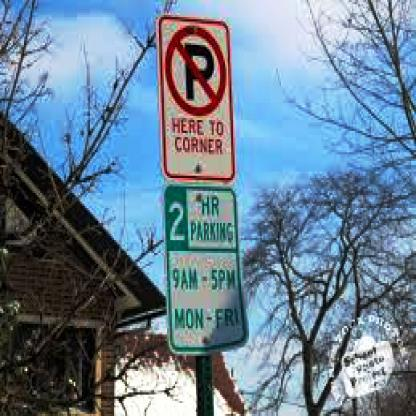No parking: (164, 26, 230, 114)
